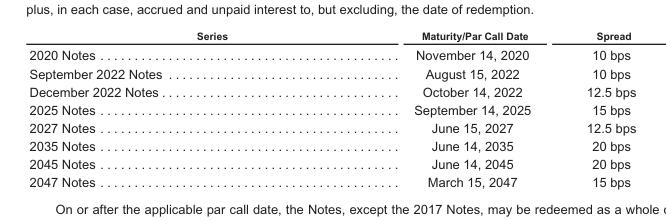table: (28, 29, 635, 188)
table column: (28, 29, 320, 188), (320, 29, 558, 188), (558, 29, 635, 188)
table column header: (28, 29, 635, 44)
table row: (28, 44, 635, 63), (28, 63, 635, 82), (28, 82, 635, 100), (28, 100, 635, 118), (28, 118, 635, 136), (28, 136, 635, 154), (28, 154, 635, 172), (28, 172, 635, 188), (28, 29, 635, 44)
